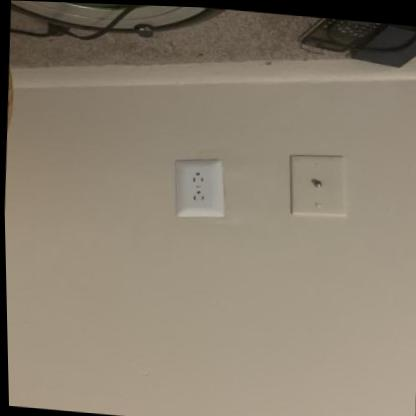OUTLET: (173, 156, 227, 221)
